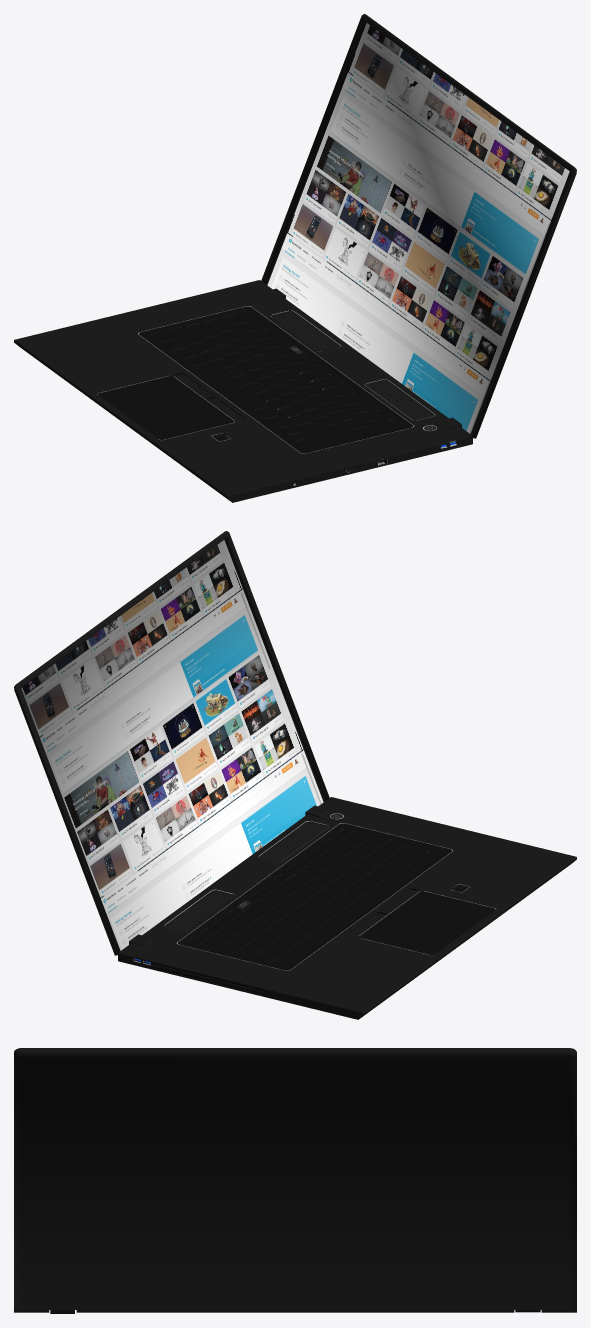
The model's file is laptop-transformed.glb.
3 views of the same model, one above another, from view 1: azimuth 30°, elevation 25°; view 2: azimuth 150°, elevation 25°; view 3: azimuth 270°, elevation 25° (orthographic). The views are drawn at different scales.
Parts seen in each view (by area): view 1: Object_3, Object_9, Object_11, Object_6, Object_5; view 2: Object_3, Object_9, Object_11, Object_6, Object_5; view 3: Object_9.
Part boxes in pixels (x1,y1,x2,y2): Object_3: (267, 23, 569, 433); Object_9: (14, 14, 576, 502); Object_11: (98, 306, 413, 453); Object_6: (150, 310, 435, 444); Object_5: (97, 306, 456, 485); Object_3: (21, 540, 323, 950); Object_9: (14, 531, 576, 1019); Object_11: (177, 823, 495, 970); Object_6: (165, 814, 437, 962); Object_5: (133, 813, 496, 970); Object_9: (14, 1048, 576, 1313).
Bounding box in the file's own units: 3.61 × 2.46 × 3.8.
Materials: 7 (3 with a texture image).
